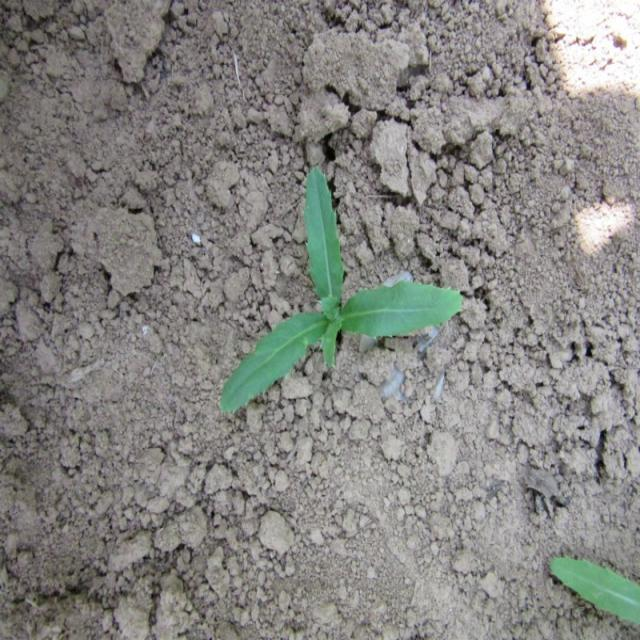field_thistle: (198, 173, 464, 390)
